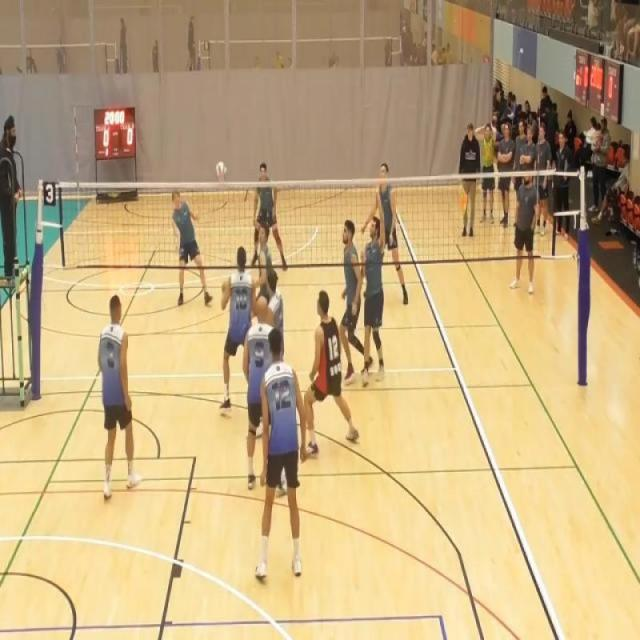volleyball: (214, 160, 229, 184)
